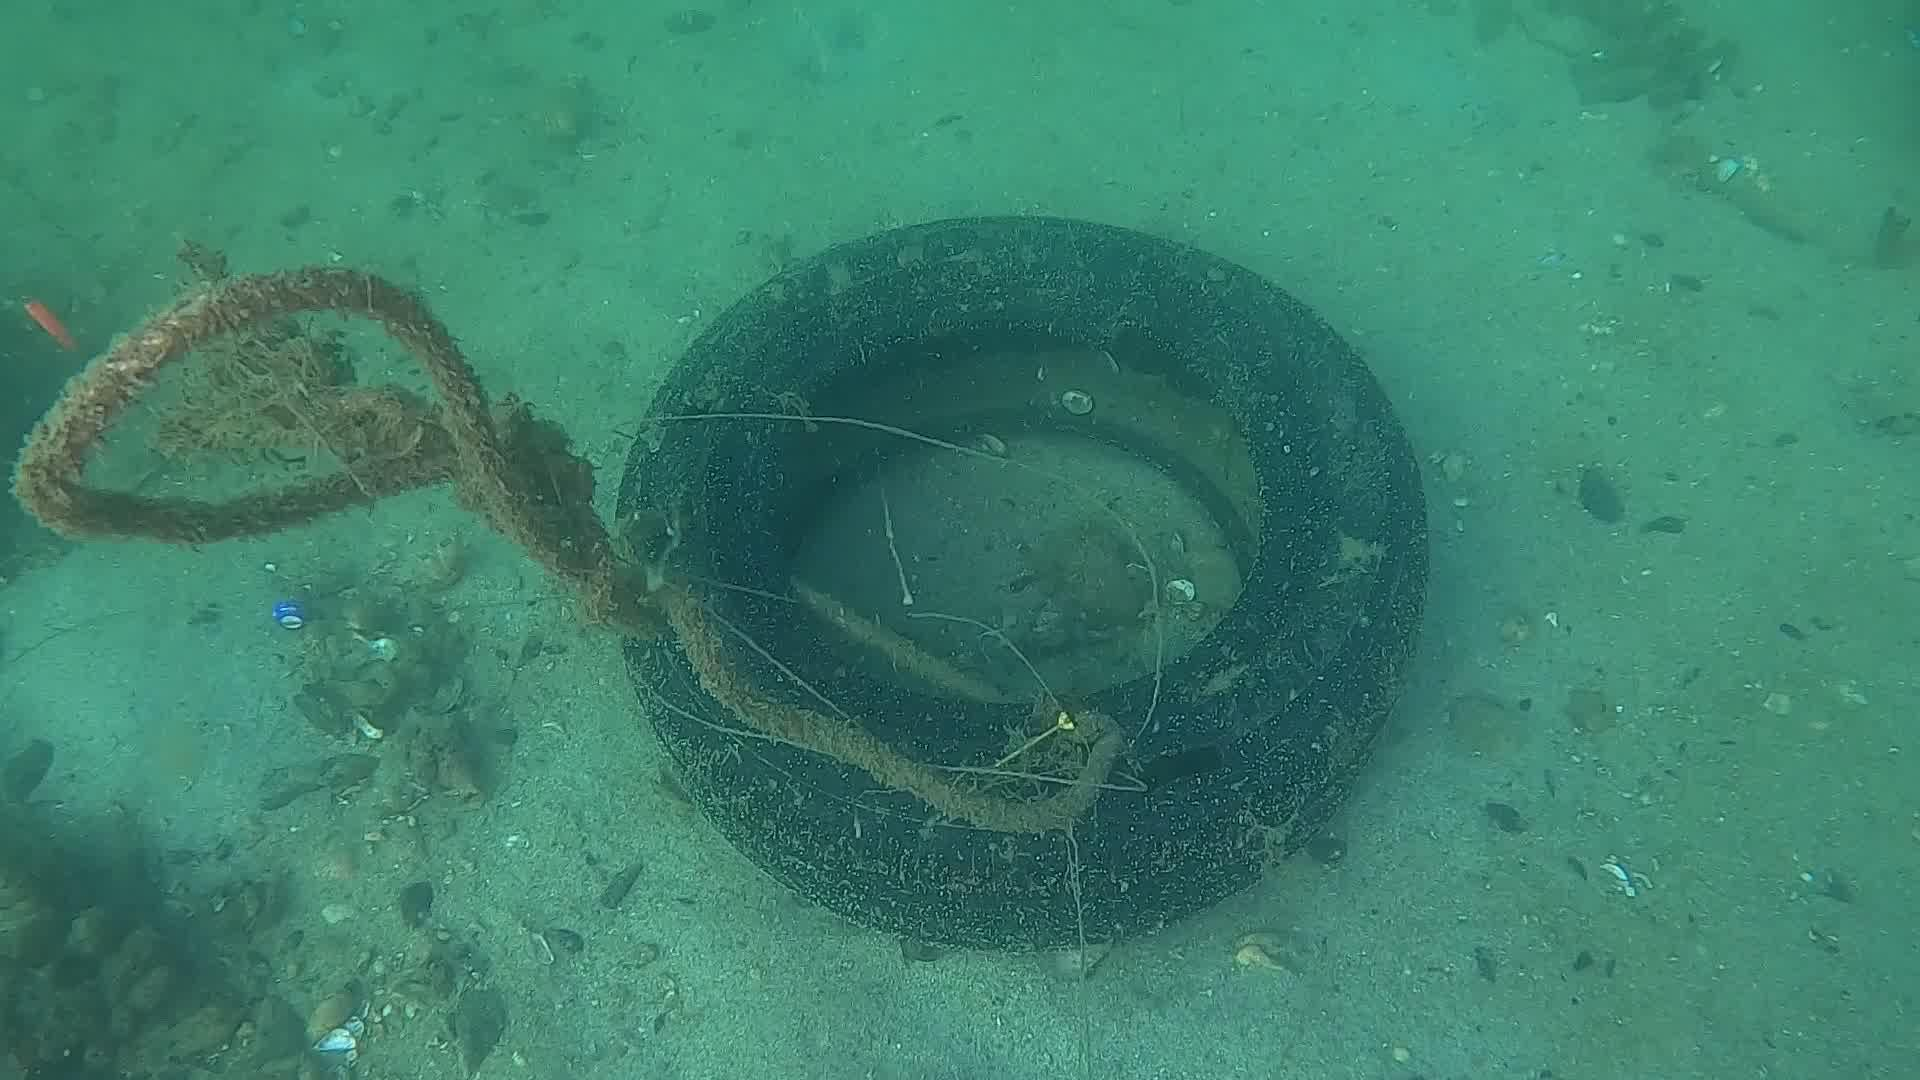bundle of ropes: (11, 265, 1127, 839)
tire: (611, 214, 1431, 948)
